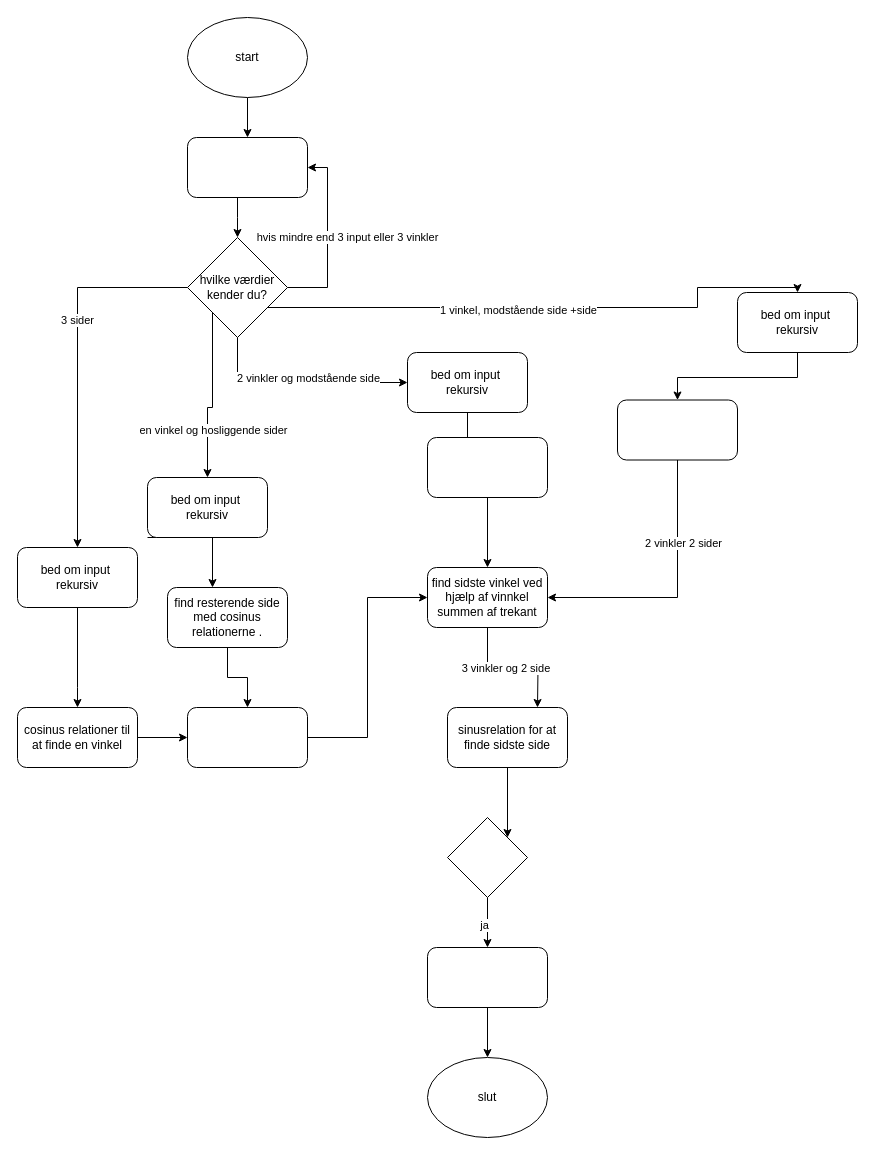
The diagram is 875 pixels wide and 1155 high, and some of its shapes have lost their labels. Here are the shapes that lost their labels. From the top down, the box of each, then its label:
(186, 136, 308, 198): Velkommen til trekantsbergneren
(616, 399, 738, 460): sinusrelation for at finde endu en vinkel
(426, 436, 548, 498): sinusrelation find endu en side
(186, 706, 308, 768): sinusrelation til at finde vinkel
(446, 816, 528, 898): Er alle variable defineret?
(426, 946, 548, 1008): vis resultater
